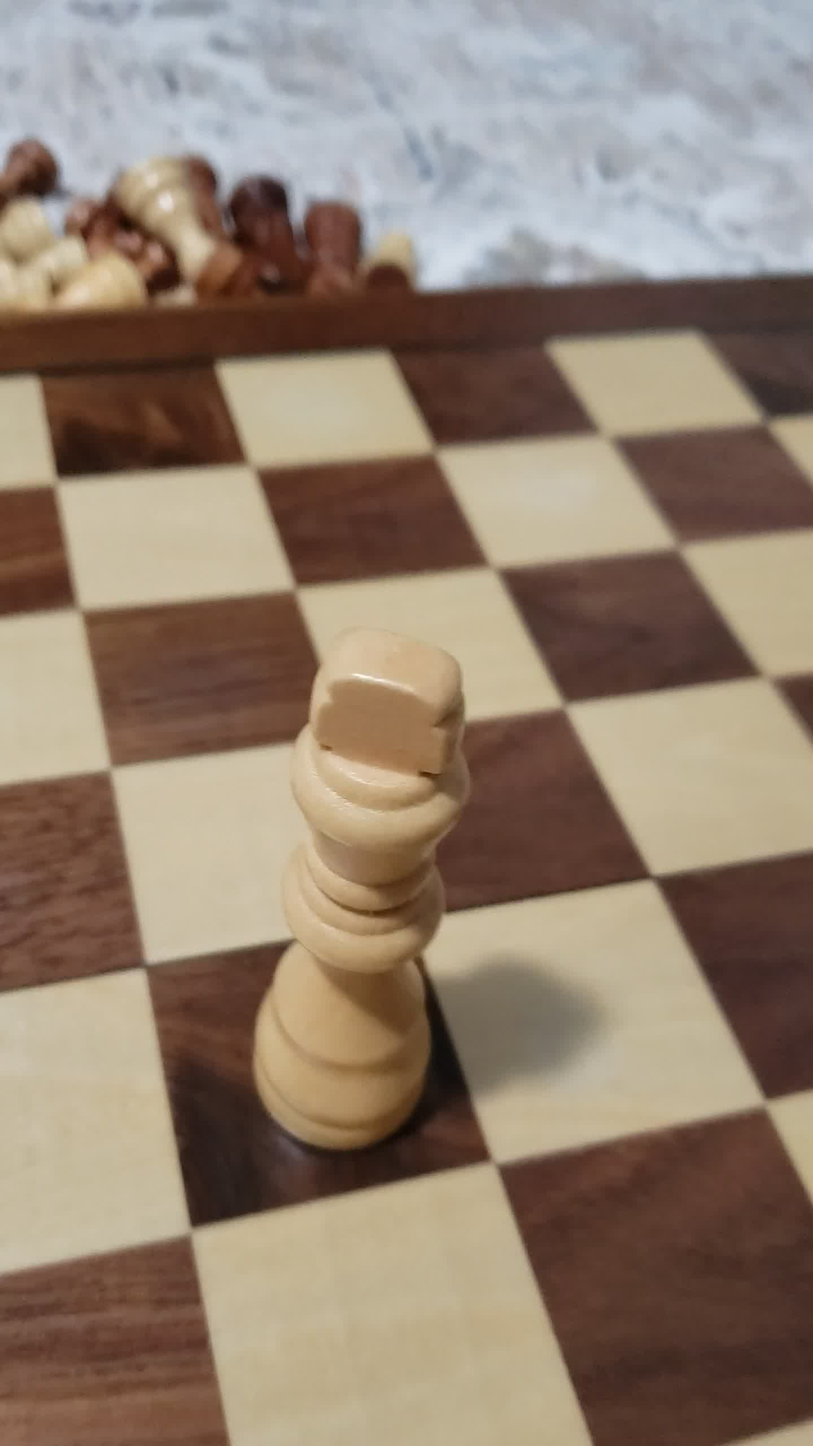white-king: (217, 594, 503, 1247)
